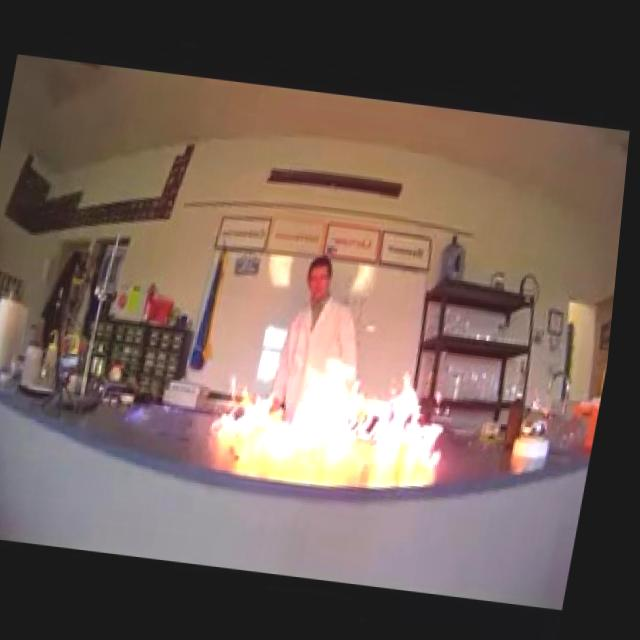helmet: (211, 333, 469, 478)
